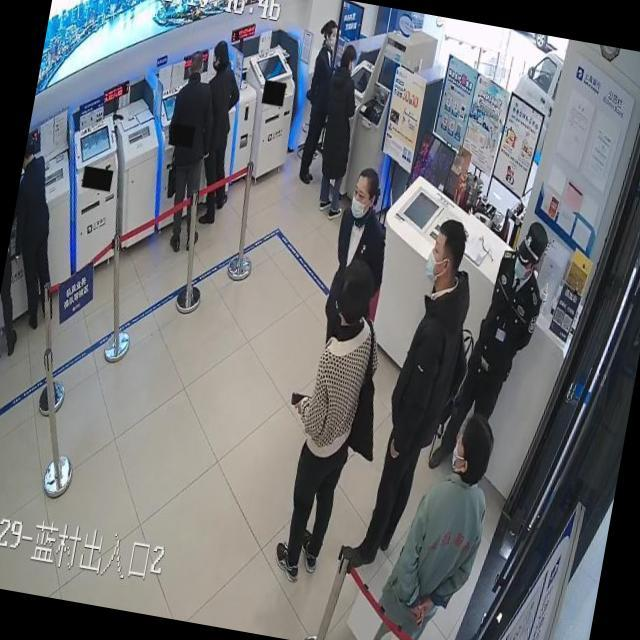person: (340, 212, 489, 589), (261, 252, 394, 590), (429, 209, 555, 482), (373, 400, 503, 640), (148, 50, 228, 255), (0, 136, 81, 332), (0, 136, 81, 330), (181, 38, 254, 228), (322, 164, 402, 330), (307, 42, 369, 222), (0, 159, 47, 366), (290, 18, 342, 186)
